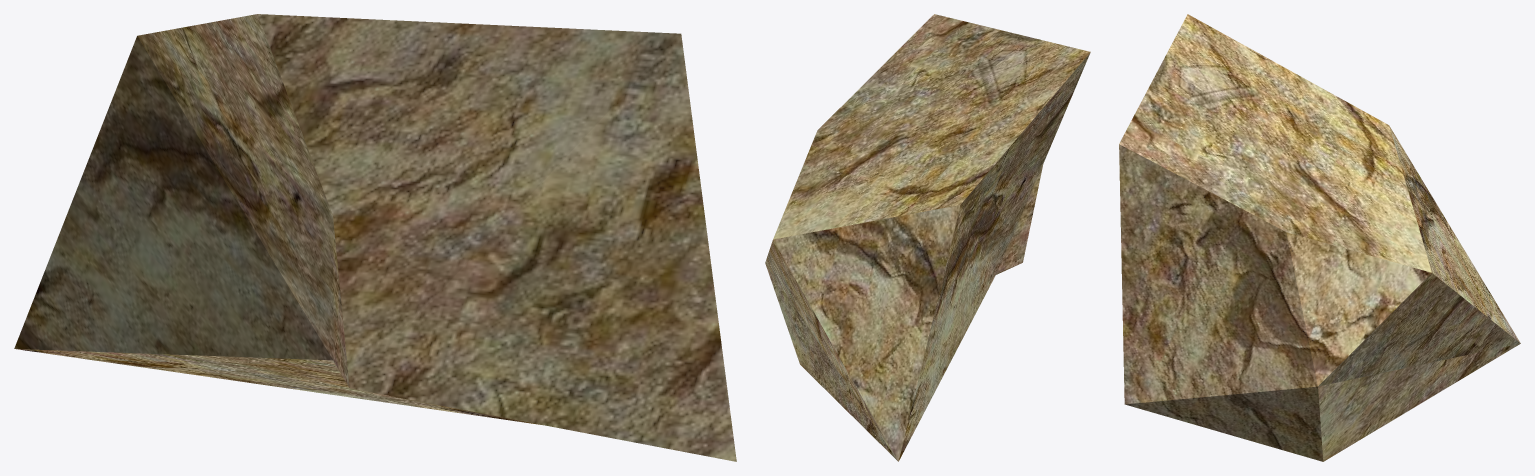
File: rock19.fbx
3 views of the same model, side by side, from view 1: azimuth 30°, elevation 25°; view 2: azimuth 150°, elevation 25°; view 3: azimuth 270°, elevation 25° (orthographic). The views are drawn at different scales.
Visible parts, largest first — view 1: Rock19; view 2: Rock19; view 3: Rock19.
Part boxes in pixels (x1=…): Rock19: x1=14, y1=14, x2=736, y2=461; Rock19: x1=765, y1=14, x2=1090, y2=461; Rock19: x1=1119, y1=14, x2=1520, y2=461.
Bounding box in the file's own units: 10.8 × 12.55 × 13.72.
